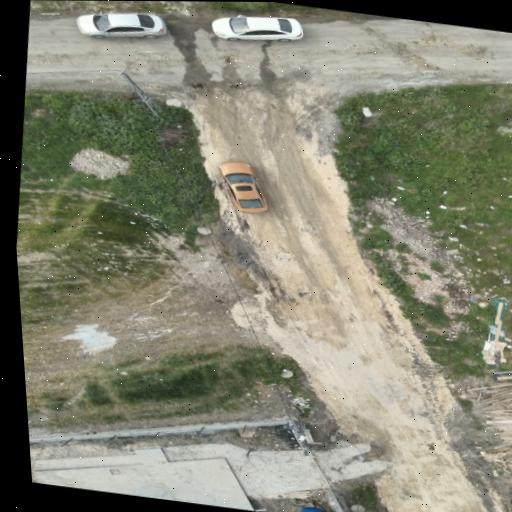car: (219, 161, 267, 212), (212, 15, 303, 41), (77, 12, 167, 38)
